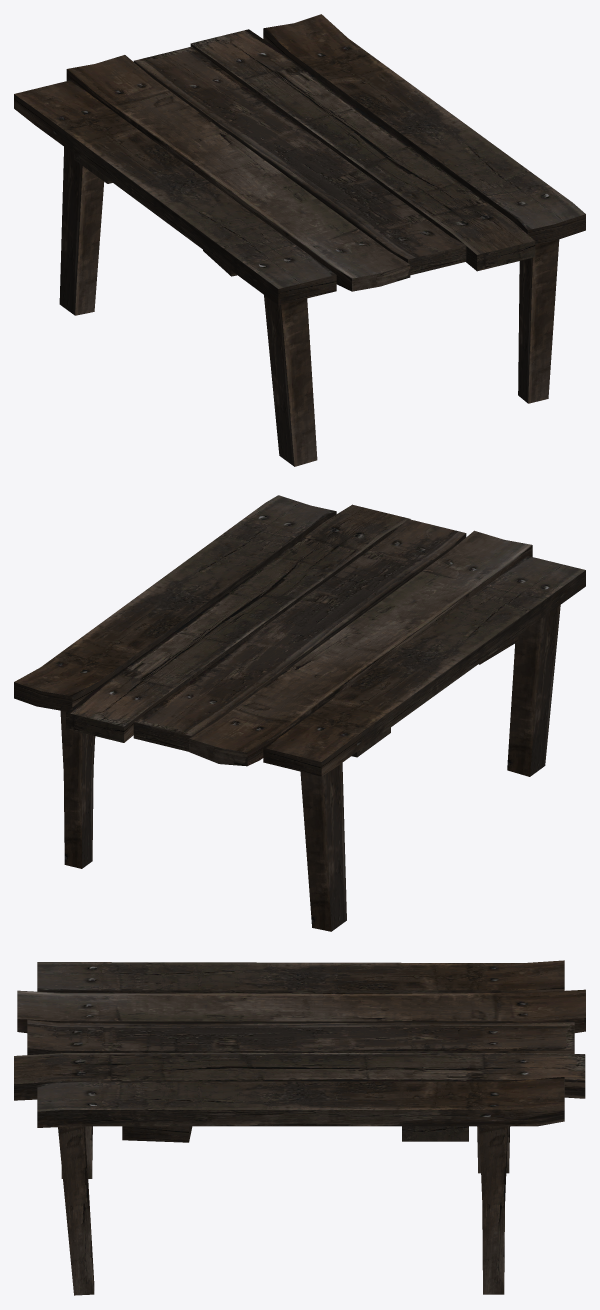
The model's file is SM_Forge_Table.FBX.
3 renders of one model, top to bottom at view 1: azimuth 30°, elevation 25°; view 2: azimuth 150°, elevation 25°; view 3: azimuth 270°, elevation 25°, orthographic.
Visible parts, largest first — view 1: SM_Forge_Table; view 2: SM_Forge_Table; view 3: SM_Forge_Table.
Boxes of the visible parts, x1,y1,x2,y2 form: SM_Forge_Table: (14, 14, 585, 466); SM_Forge_Table: (14, 495, 585, 931); SM_Forge_Table: (14, 960, 585, 1295).
Size of the model in its own units: 121 by 195 by 75.25.
